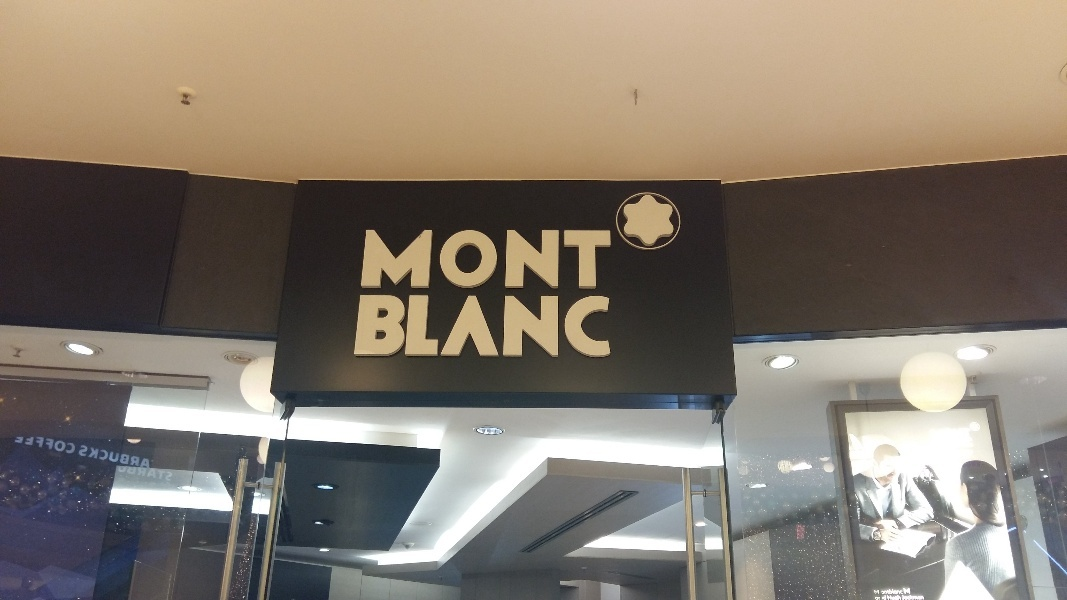text: (369, 295, 384, 358), (385, 295, 400, 358), (401, 295, 416, 358), (417, 295, 432, 358), (433, 295, 448, 358), (449, 295, 464, 358), (465, 295, 480, 358), (481, 295, 496, 358), (497, 295, 512, 358), (513, 295, 528, 358), (529, 295, 544, 358), (545, 295, 560, 358), (561, 295, 576, 358), (577, 295, 592, 358), (593, 295, 608, 358), (369, 229, 384, 289), (385, 229, 400, 289), (401, 229, 416, 289), (417, 229, 432, 289), (433, 229, 448, 289), (449, 229, 464, 289), (465, 229, 480, 289), (481, 229, 496, 289), (497, 229, 512, 289), (513, 229, 528, 289), (529, 229, 544, 289), (545, 229, 560, 289), (561, 229, 576, 289), (577, 229, 592, 289), (593, 229, 608, 289), (33, 434, 48, 469), (49, 434, 64, 469), (65, 434, 80, 469), (81, 434, 96, 469), (97, 434, 112, 469), (113, 434, 128, 469), (129, 434, 144, 469), (360, 295, 368, 358), (129, 466, 144, 482), (145, 466, 160, 482), (161, 466, 173, 482), (609, 295, 612, 358), (609, 229, 612, 289), (881, 588, 896, 600), (897, 588, 912, 600), (145, 434, 150, 469), (913, 588, 926, 600), (28, 434, 32, 469), (120, 466, 128, 482), (366, 229, 368, 289), (874, 588, 880, 600)
